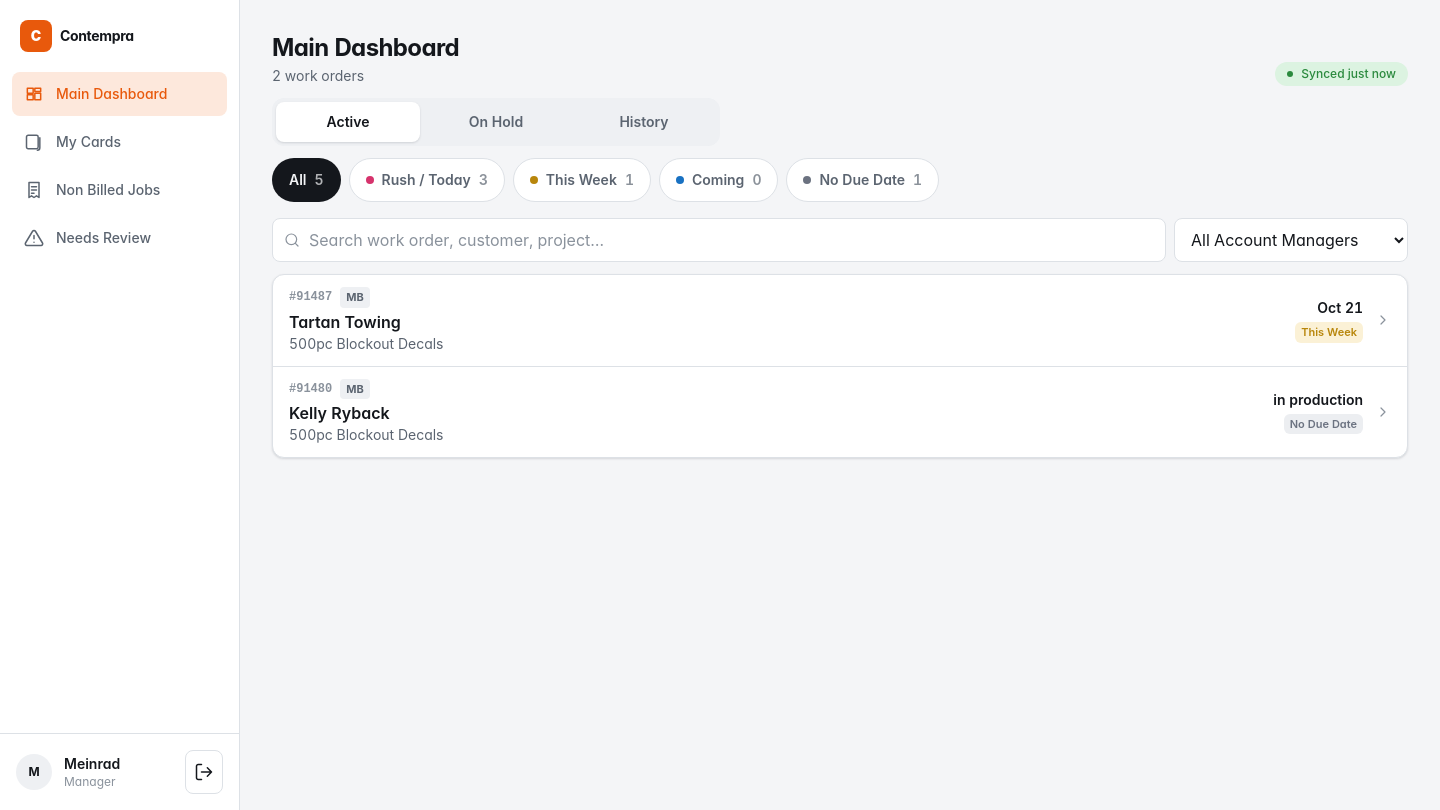
it: Main Dashboard › opens docket detail with the Account Manager label
The width and height of the screenshot is (1440, 810).
Click the text "Tartan Towing": [345, 322] box [289,312,401,332]
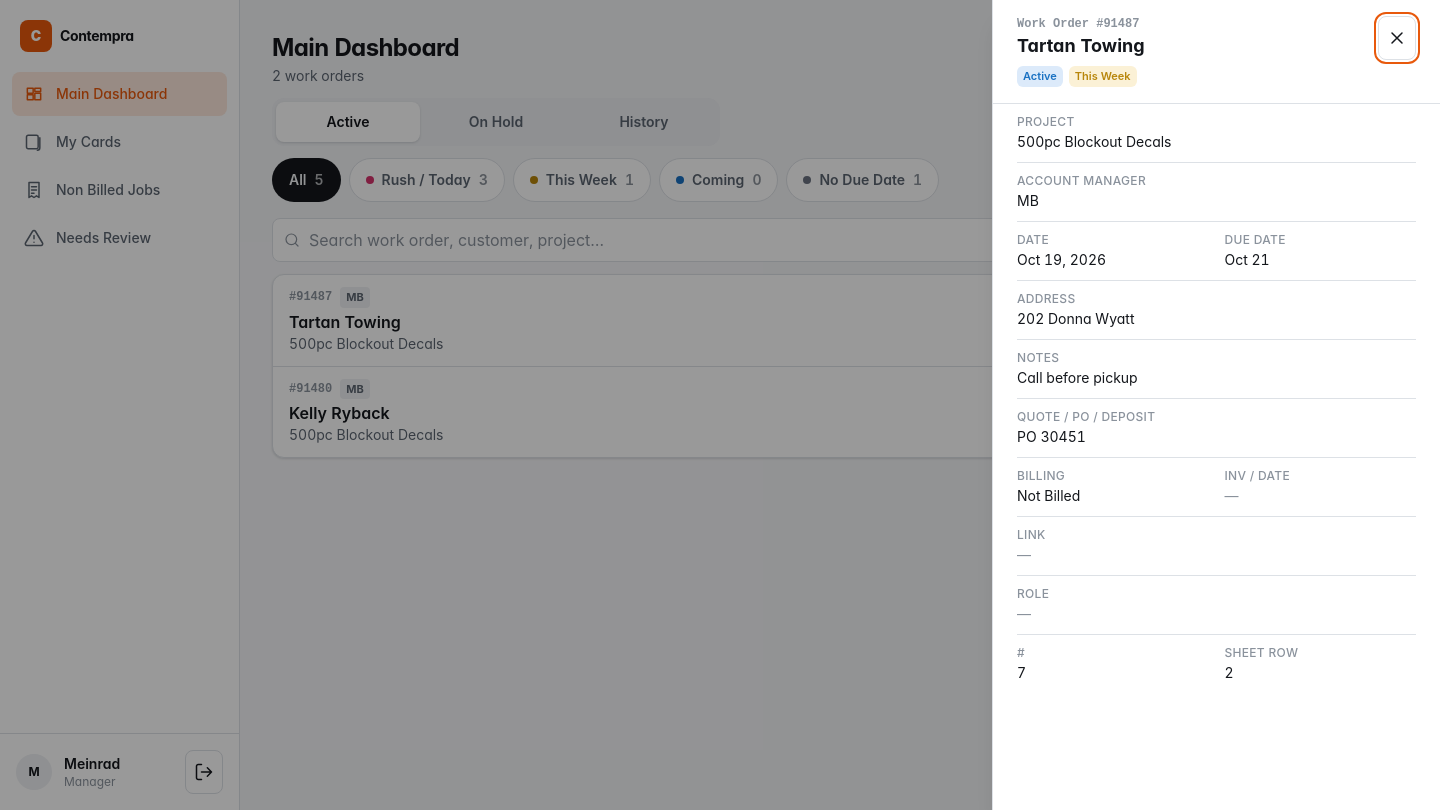
Expected: the text "Account Manager" is shown, [1017,172,1146,188]
Expected: the text "Call before pickup" is shown, [1017,368,1138,386]
